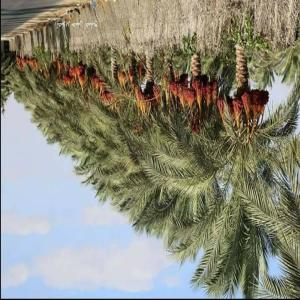palm tree: (0, 19, 300, 299)
